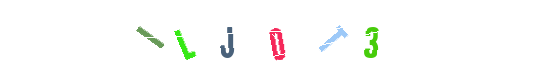0: (237, 0, 317, 80)
3: (290, 0, 370, 80)
I: (155, 0, 235, 80)
J: (230, 0, 310, 80)
L: (210, 0, 290, 80)
T: (250, 0, 330, 80)
